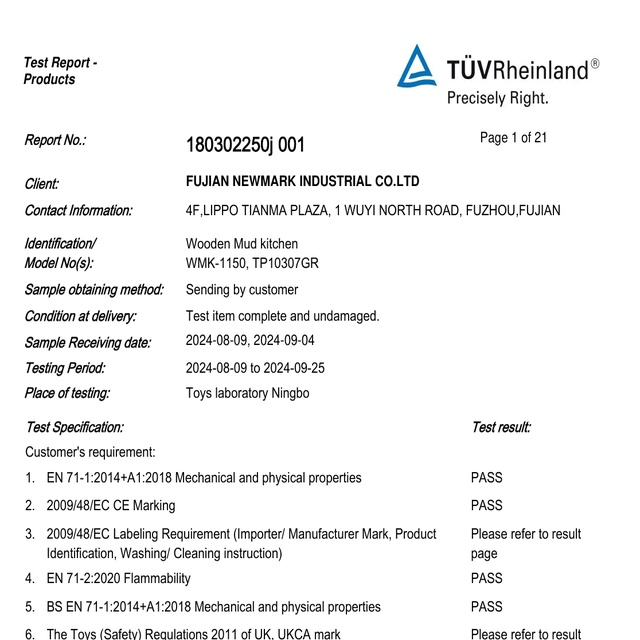tuv_rheinland: (397, 39, 607, 91)
